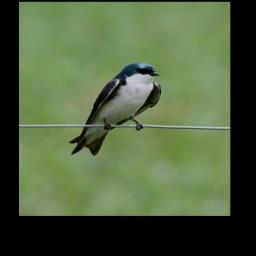Swallow: (67, 62, 162, 156)
